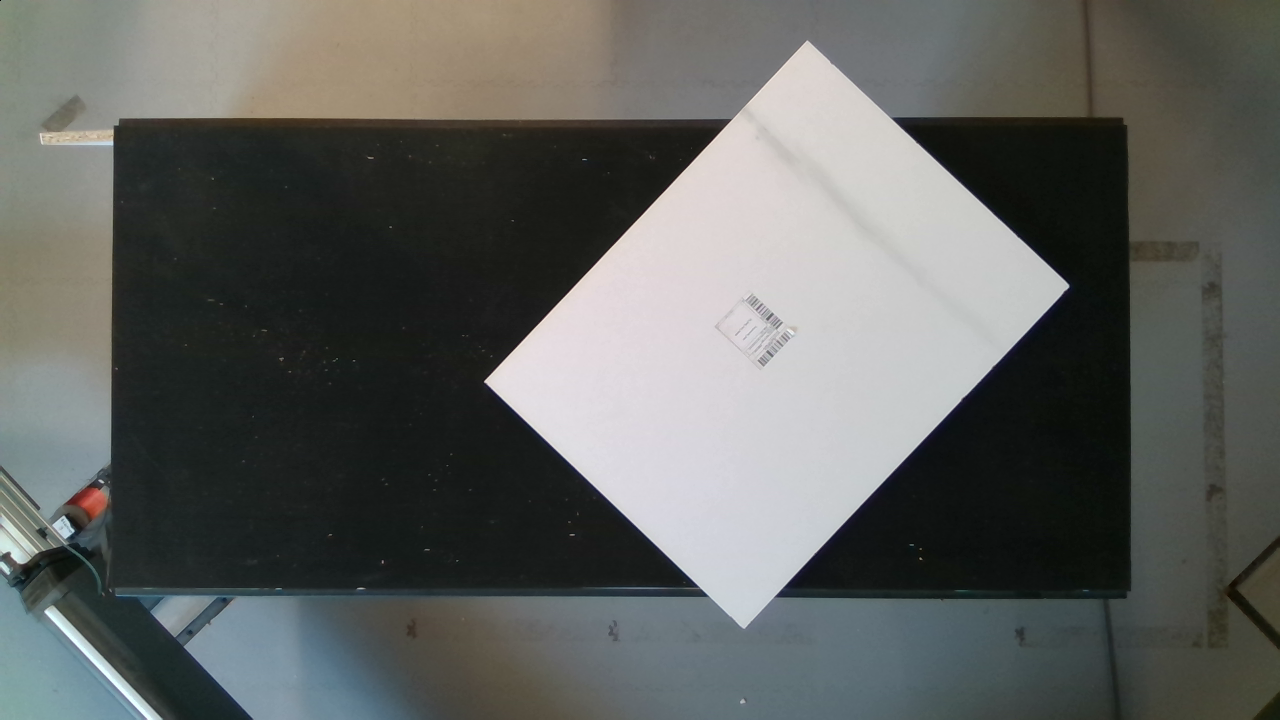barcode: (702, 280, 812, 378)
part2: (484, 27, 1083, 644)
